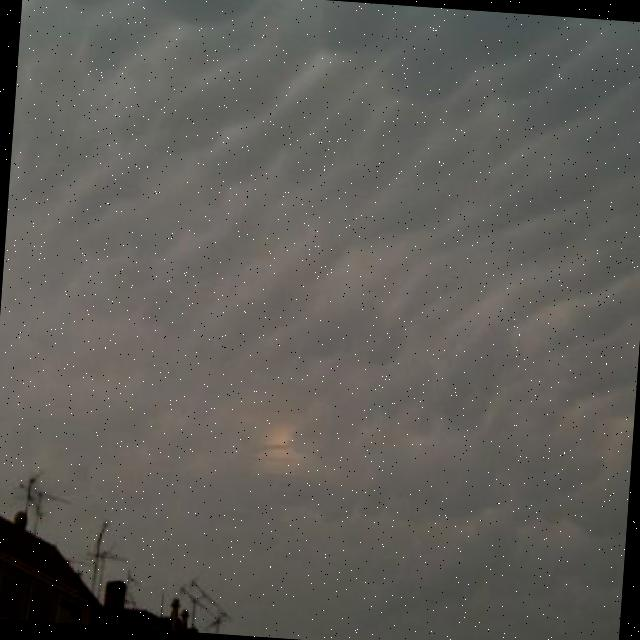Ac: (1, 9, 640, 503)
